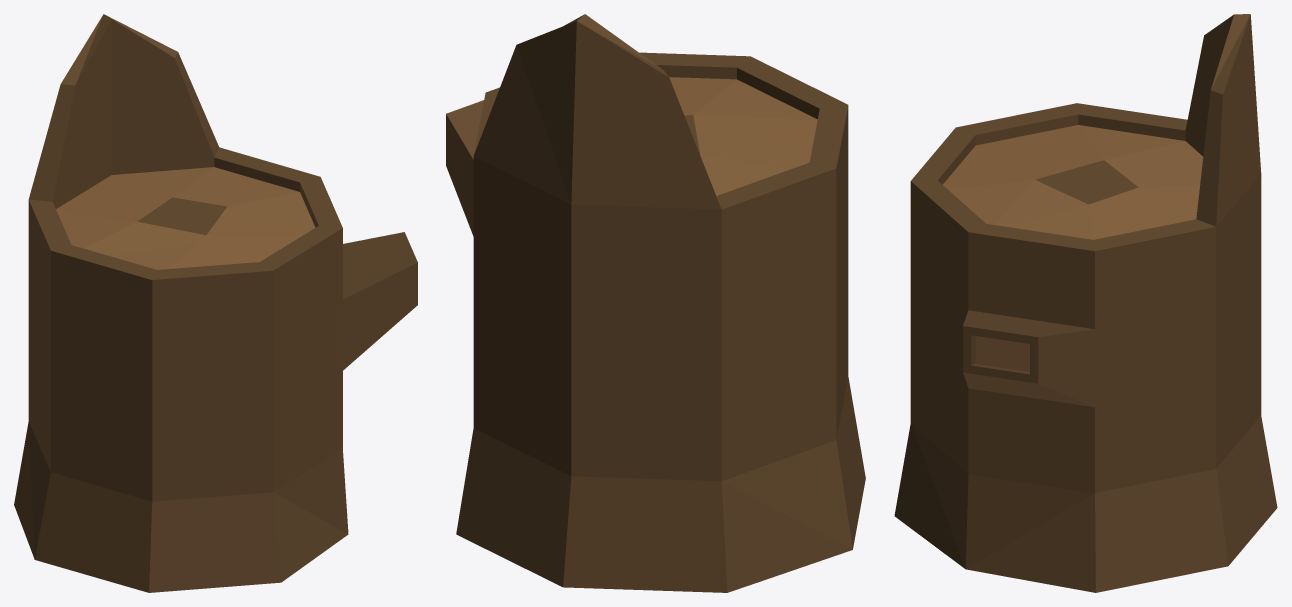
The model's file is Stump_01 2.glb.
3 renders of one model, left to right at view 1: azimuth 30°, elevation 25°; view 2: azimuth 150°, elevation 25°; view 3: azimuth 270°, elevation 25°, orthographic. The views are drawn at different scales.
Parts seen in each view (by area): view 1: Stump_01_LOD0; view 2: Stump_01_LOD0; view 3: Stump_01_LOD0.
Part boxes in pixels (x1=…): Stump_01_LOD0: x1=14, y1=14, x2=417, y2=592; Stump_01_LOD0: x1=446, y1=14, x2=865, y2=592; Stump_01_LOD0: x1=894, y1=14, x2=1277, y2=592.
Size of what is drawn, in the model's own units: 0.6593 by 0.8132 by 0.571.
Materials: 1 (1 with a texture image).
